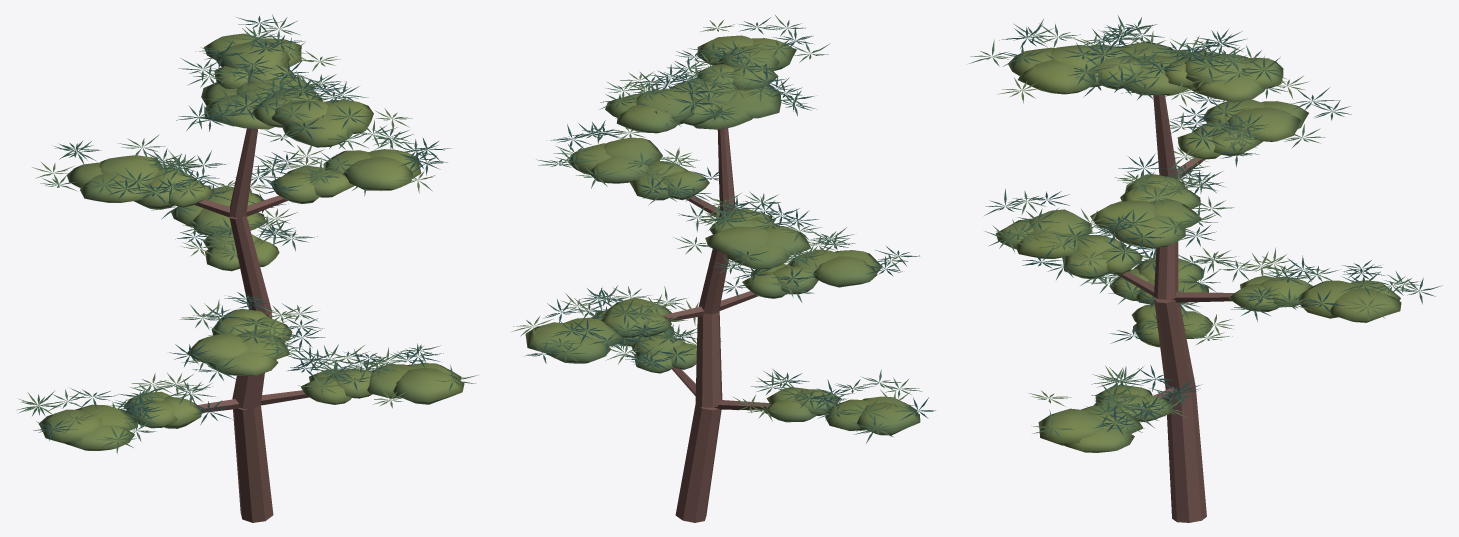
The model's file is ART_GardenPine.glb.
3 renders of one model, left to right at view 1: azimuth 30°, elevation 25°; view 2: azimuth 150°, elevation 25°; view 3: azimuth 270°, elevation 25°, orthographic. The views are drawn at different scales.
Visible parts, largest first — view 1: ART_GardenPine; view 2: ART_GardenPine; view 3: ART_GardenPine.
Boxes of the visible parts, x1,y1,x2,y2 form: ART_GardenPine: (16,14,478,522); ART_GardenPine: (511,14,935,522); ART_GardenPine: (969,15,1441,522).
Size of the model in its own units: 8.3 by 9.05 by 8.2.
